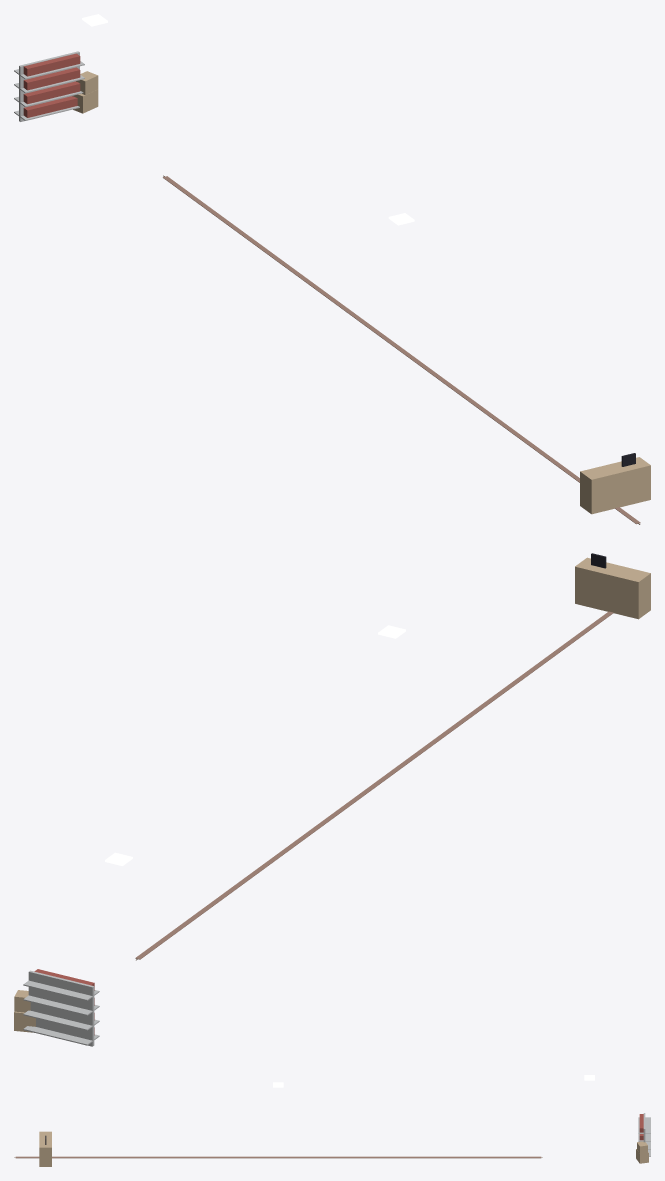
Rendered from fine-s0.glb.
3 views of the same model, one above another, from view 1: azimuth 30°, elevation 25°; view 2: azimuth 150°, elevation 25°; view 3: azimuth 270°, elevation 25° (orthographic). The views are drawn at different scales.
Parts seen in each view (by area): view 1: shelving.000, shop-counter.000, soft-s0, cardboard-box.000; view 2: shelving.000, shop-counter.000, soft-s0; view 3: soft-s0, shop-counter.000, shelving.000, cardboard-box.000.
Part boxes in pixels (x1,y1,x2,y2): shelving.000: (14,51,84,121); shop-counter.000: (580,453,650,514); soft-s0: (163,175,640,524); cardboard-box.000: (72,71,98,113); shelving.000: (23,969,99,1046); shop-counter.000: (575,553,650,619); soft-s0: (135,611,613,960); soft-s0: (14,1156,542,1158); shop-counter.000: (39,1131,51,1166); shelving.000: (638,1113,650,1156); cardboard-box.000: (636,1141,648,1163).
Bounding box in the file's own units: 2.6 × 3.82 × 30.1.
